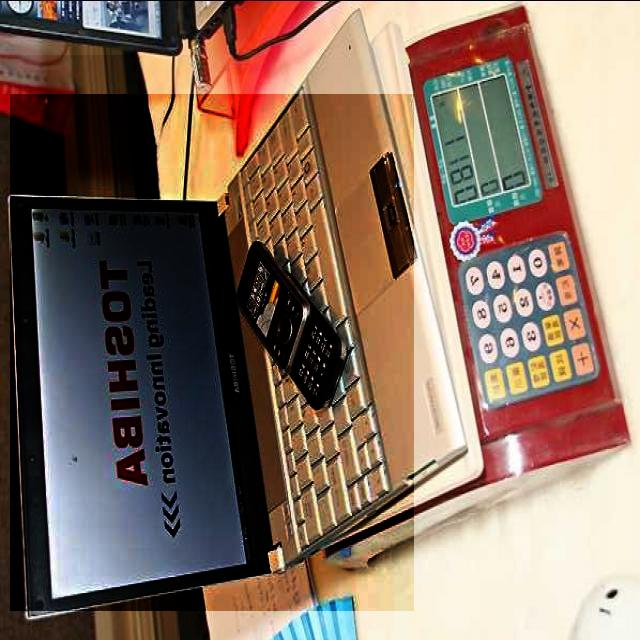-keyboard-: (11, 94, 414, 611), (0, 0, 206, 55)
